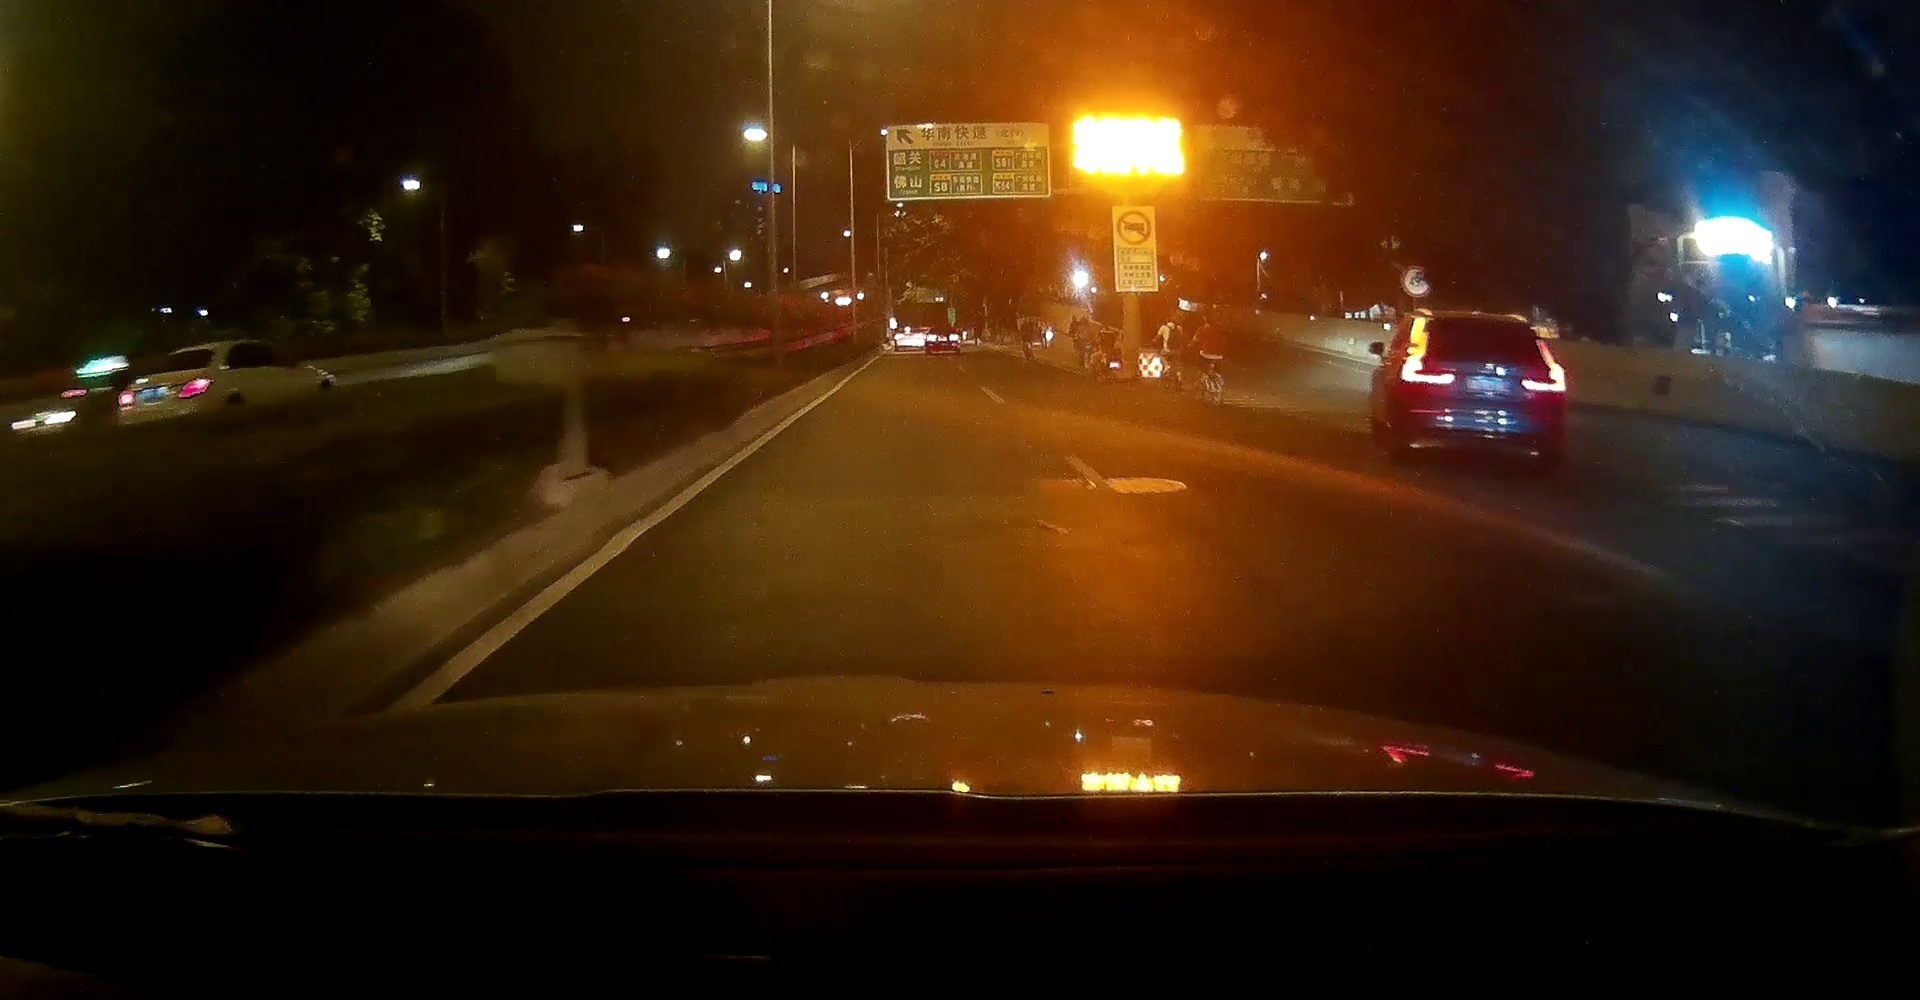L_light: (1398, 332, 1457, 385), (117, 390, 136, 410)
R_light: (1519, 338, 1567, 392), (177, 376, 213, 400)
T_light: (1470, 319, 1495, 325), (180, 350, 196, 355)
night-no: (1393, 310, 1570, 464), (116, 341, 217, 442)
